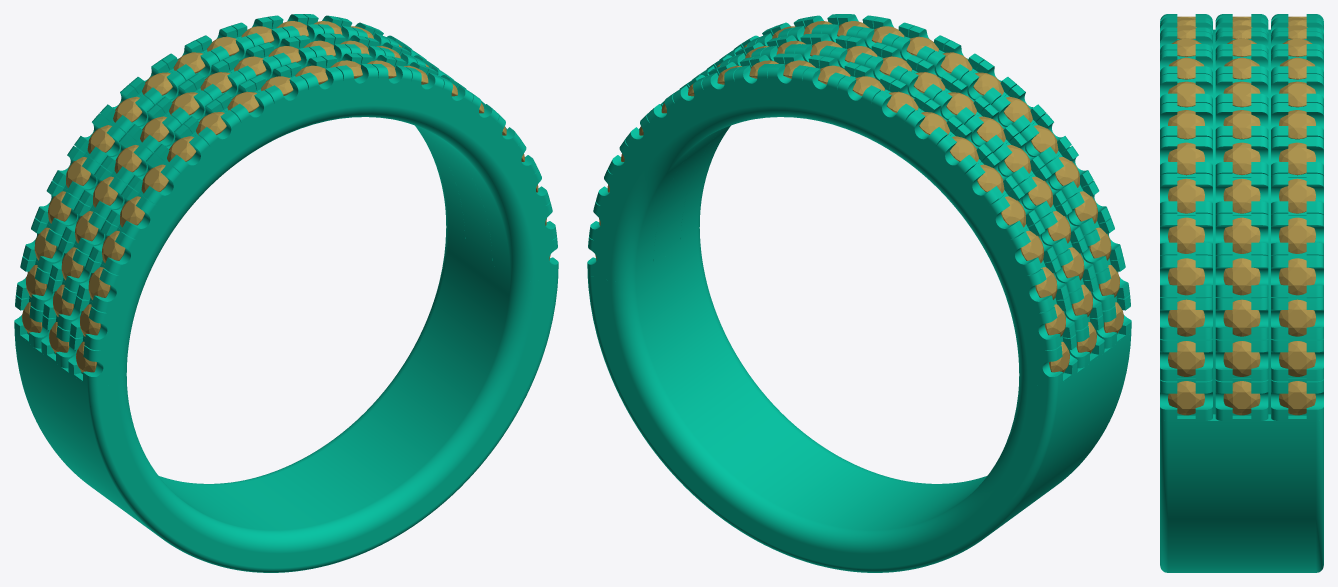
3 renders of one model, left to right at view 1: azimuth 30°, elevation 25°; view 2: azimuth 150°, elevation 25°; view 3: azimuth 270°, elevation 25°, orthographic. The views are drawn at different scales.
Parts seen in each view (by area): view 1: VR923 - N D1(front).3dm; view 2: VR923 - N D1(front).3dm; view 3: VR923 - N D1(front).3dm, Diamond_Round (×36).
Part boxes in pixels (x1=…): VR923 - N D1(front).3dm: x1=14, y1=14, x2=558, y2=572; VR923 - N D1(front).3dm: x1=587, y1=14, x2=1131, y2=572; VR923 - N D1(front).3dm: x1=1160, y1=14, x2=1323, y2=572; Diamond_Round (×36): x1=1168, y1=25, x2=1315, y2=415.
Size of the model in its own units: 2.77 by 2.77 by 0.812.
